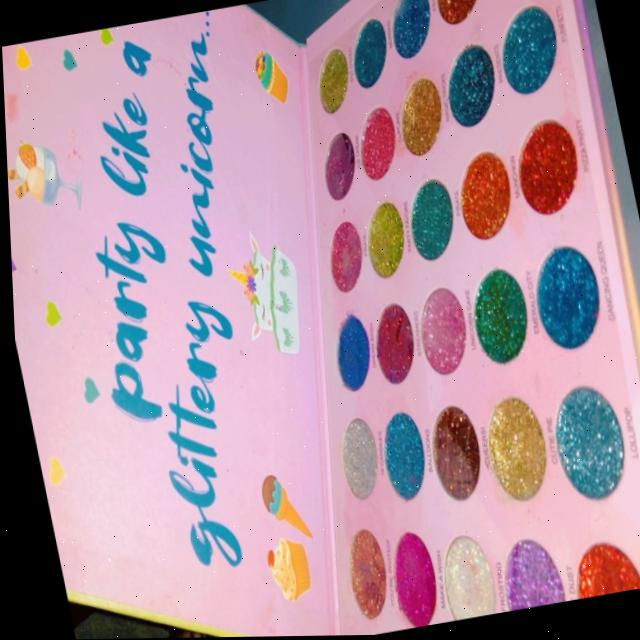eye shade: (232, 0, 640, 637)
